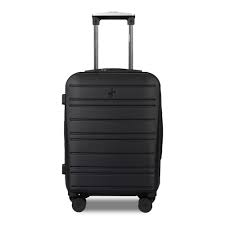suitcase: (59, 12, 166, 214)
